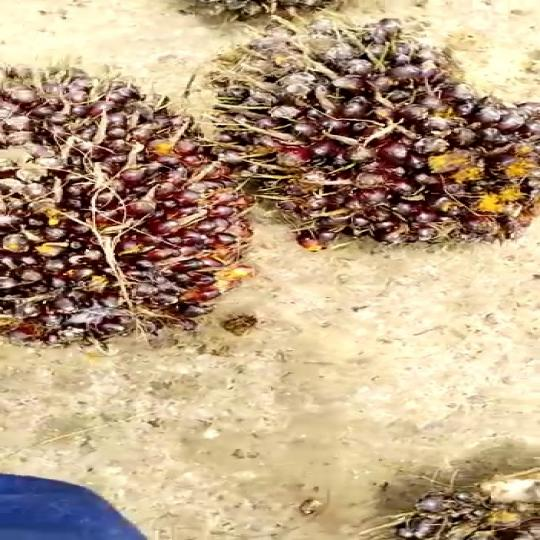kurang masak: (0, 61, 254, 372), (200, 32, 540, 259)
